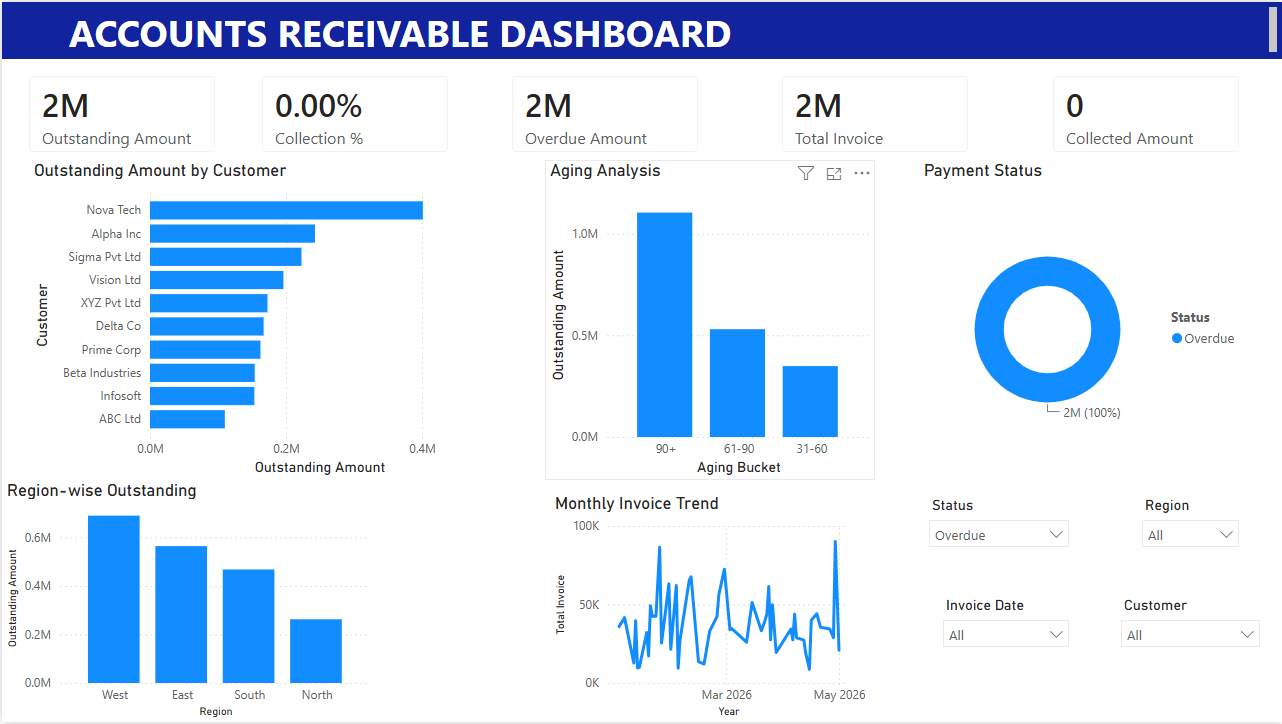

What the dashboard file says about the page in this screenshot:
{"tool":"powerbi","page":{"name":"Page 1","canvas":[1280,720],"ordinal":0},"visuals":[{"type":"cardVisual","fields":{"Data":["Transactions.Overdue Amount"]},"box":[493,57,220,110],"z":0},{"type":"cardVisual","fields":{"Data":["Transactions.Outstanding Amount"]},"box":[10,57,220,110],"z":1000},{"type":"cardVisual","fields":{"Data":["Transactions.Collected Amount"]},"box":[1034,57,220,110],"z":2000},{"type":"cardVisual","fields":{"Data":["Transactions.Collection %"]},"box":[243,57,220,110],"z":3000},{"type":"cardVisual","fields":{"Data":["Transactions.Total Invoice"]},"box":[763,57,220,110],"z":4000},{"type":"clusteredBarChart","fields":{"Category":["Transactions.Customer"],"Y":["Transactions.Outstanding Amount"]},"box":[27,158,480,320],"z":5000},{"type":"clusteredColumnChart","title":"Aging Analysis","fields":{"Category":["Transactions.Aging Bucket"],"Y":["Transactions.Outstanding Amount"]},"box":[543,158,330,320],"z":6000},{"type":"donutChart","title":"Payment Status","fields":{"Category":["Transactions.Status"],"Y":["Transactions.Outstanding Amount"]},"box":[917,158,330,320],"z":7000},{"type":"clusteredColumnChart","title":"Region-wise Outstanding","fields":{"Y":["Transactions.Outstanding Amount"],"Category":["Transactions.Region"]},"box":[0,478,374,242],"z":8000},{"type":"lineChart","title":"Monthly Invoice Trend","fields":{"Category":["Transactions.Invoice Date.Variation.Date Hierarchy.Year","Transactions.Invoice Date.Variation.Date Hierarchy.Quarter","Transactions.Invoice Date.Variation.Date Hierarchy.Month","Transactions.Invoice Date.Variation.Date Hierarchy.Day"],"Y":["Transactions.Total Invoice"]},"box":[548,491,320,229],"z":9000},{"type":"slicer","fields":{"Values":["Transactions.Region"]},"box":[1130,490,117,76],"z":10000},{"type":"slicer","fields":{"Values":["Transactions.Customer"]},"box":[1109,590,159,74],"z":11000},{"type":"slicer","fields":{"Values":["Transactions.Status"]},"box":[917,490,160,74],"z":12000},{"type":"shape","box":[0,0,1280,57],"z":12500},{"type":"slicer","fields":{"Values":["Transactions.Invoice Date"]},"box":[931,590,146,74],"z":13000},{"type":"textbox","box":[0,0,1280,57],"z":15002}]}

Visuals, with their boxes in screenshot pixels (x1, y1, x2, y2), scaled from the page's 1280x720 canvas onto the 1282x724 screenshot:
cardVisual - Transactions.Overdue Amount: detection(494, 57, 714, 168)
cardVisual - Transactions.Outstanding Amount: detection(10, 57, 230, 168)
cardVisual - Transactions.Collected Amount: detection(1036, 57, 1256, 168)
cardVisual - Transactions.Collection %: detection(243, 57, 464, 168)
cardVisual - Transactions.Total Invoice: detection(764, 57, 985, 168)
clusteredBarChart - Transactions.Customer x Transactions.Outstanding Amount: detection(27, 159, 508, 481)
"Aging Analysis" clusteredColumnChart: detection(544, 159, 874, 481)
"Payment Status" donutChart: detection(918, 159, 1249, 481)
"Region-wise Outstanding" clusteredColumnChart: detection(0, 481, 375, 723)
"Monthly Invoice Trend" lineChart: detection(549, 494, 869, 723)
slicer - Transactions.Region: detection(1132, 493, 1249, 569)
slicer - Transactions.Customer: detection(1111, 593, 1270, 668)
slicer - Transactions.Status: detection(918, 493, 1079, 567)
shape: detection(0, 0, 1281, 57)
slicer - Transactions.Invoice Date: detection(932, 593, 1079, 668)
textbox: detection(0, 0, 1281, 57)
